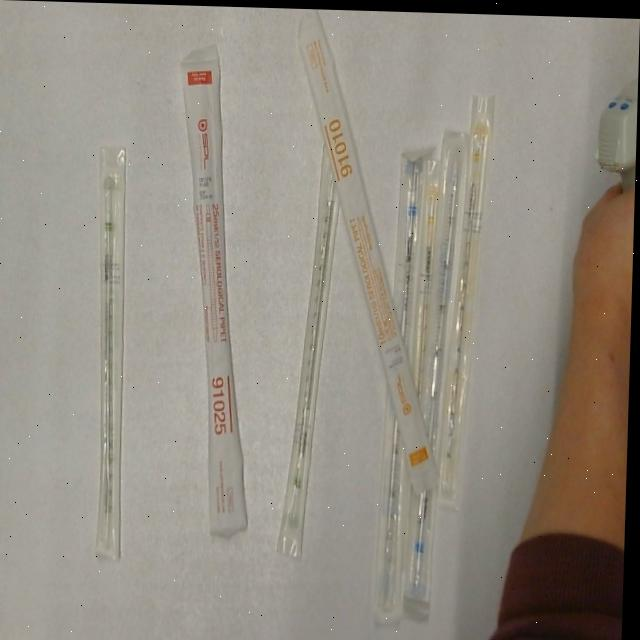Pipette Controller: (590, 63, 639, 209)
Serelogical Pipet 1 mL - Sealed: (436, 84, 499, 499), (417, 152, 444, 413)
Serelogical Pipet 10 mL - Sealed: (283, 11, 459, 495)
Serelogical Pipet 2 mL - Sealed: (278, 135, 346, 561), (82, 132, 141, 569)
Serelogical Pipet 25 mL - Sealed: (165, 41, 266, 545)
Serelogical Pipet 5 mL - Sealed: (369, 136, 439, 631), (406, 121, 471, 606)
